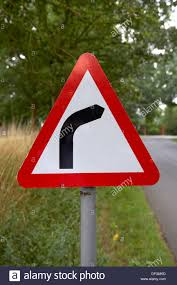Bend_to_right: (14, 51, 163, 189)
